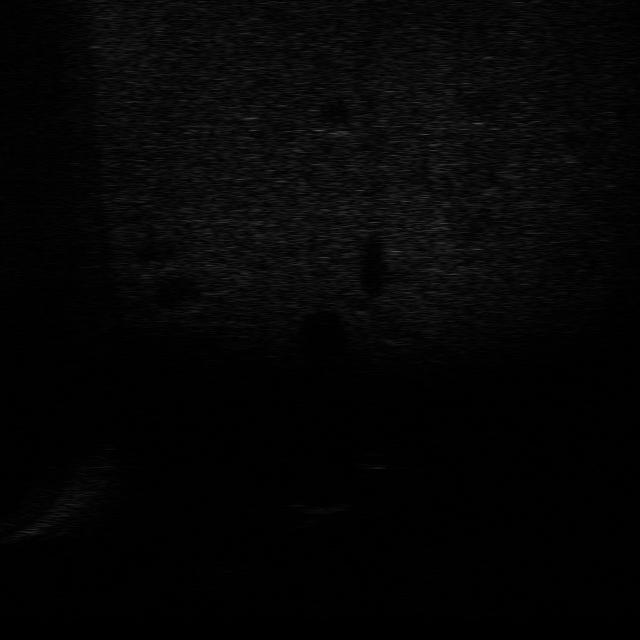ball: (345, 445, 397, 477)
square cage: (284, 492, 358, 518)
